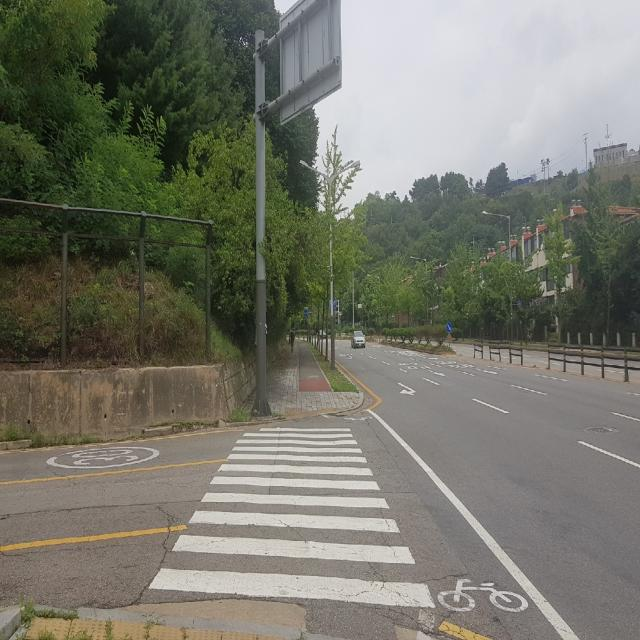횡단보도: (146, 423, 438, 612)
